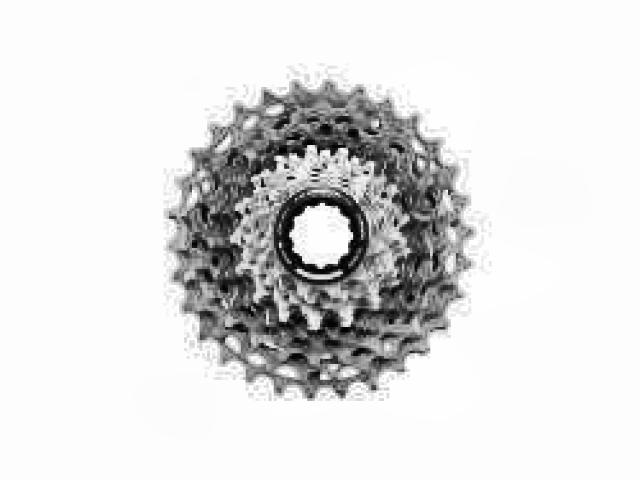cassette: (162, 77, 478, 402)
